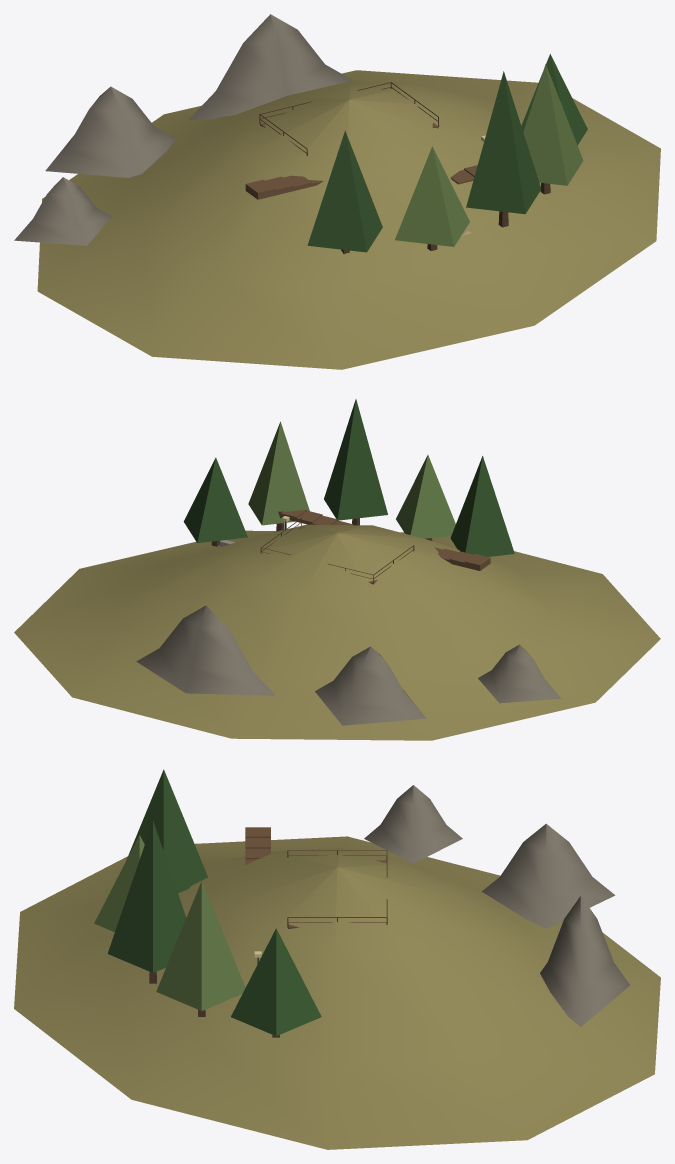
File: mobile.glb
3 renders of one model, top to bottom at view 1: azimuth 30°, elevation 25°; view 2: azimuth 150°, elevation 25°; view 3: azimuth 270°, elevation 25°, orthographic. The views are drawn at different scales.
Parts seen in each view (by area): view 1: lm.lands-end-lookout; view 2: lm.lands-end-lookout; view 3: lm.lands-end-lookout.
Boxes of the visible parts, x1,y1,x2,y2 form: lm.lands-end-lookout: (14,14,660,369); lm.lands-end-lookout: (14,399,660,740); lm.lands-end-lookout: (14,769,660,1149).
Bounding box in the file's own units: 74.83 × 23 × 65.27.
